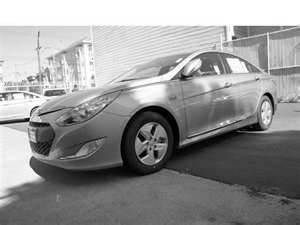car: (27, 48, 279, 175)
